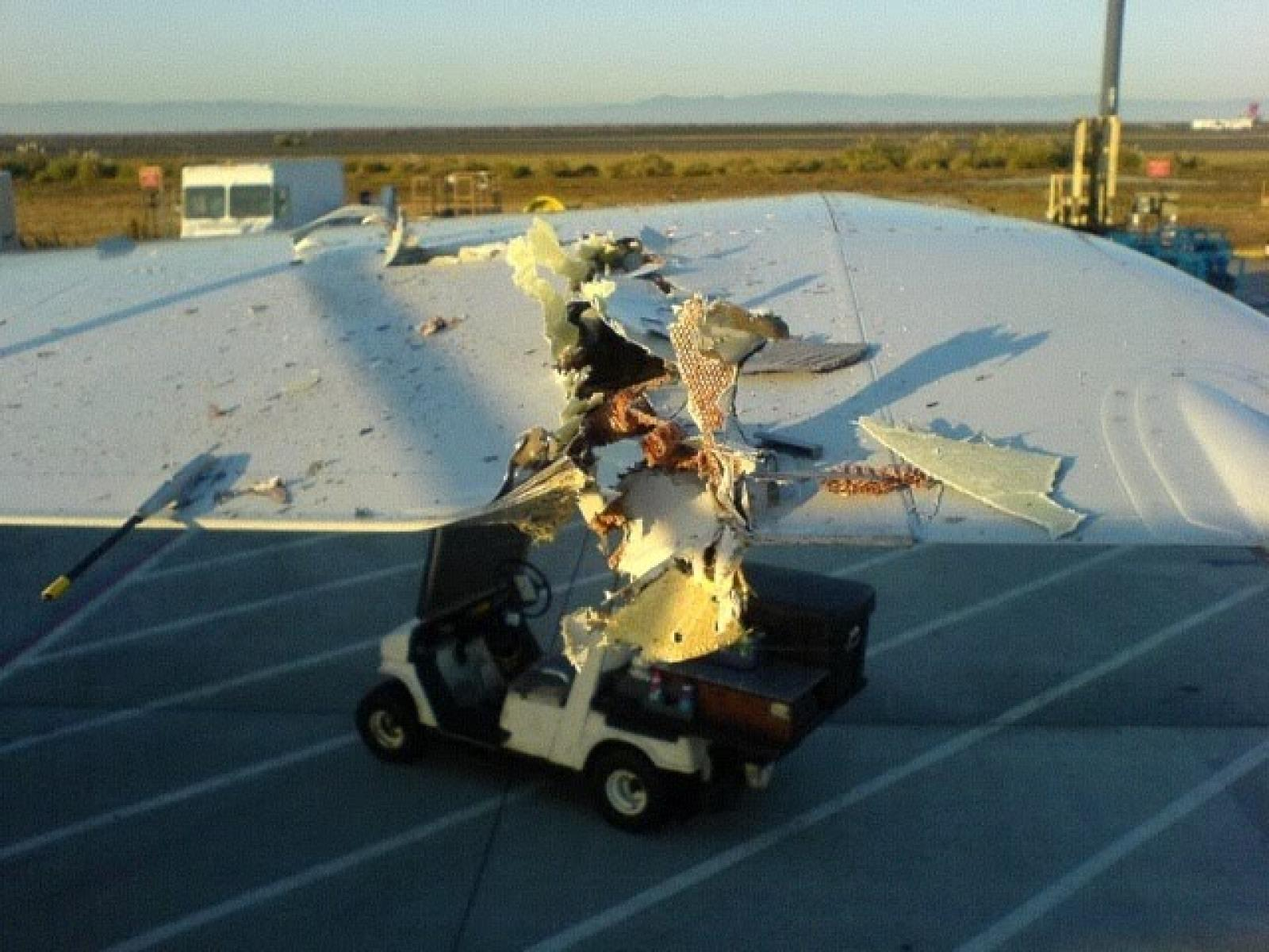Wing_damage: (561, 299, 781, 668), (527, 258, 670, 418), (490, 216, 640, 357)
